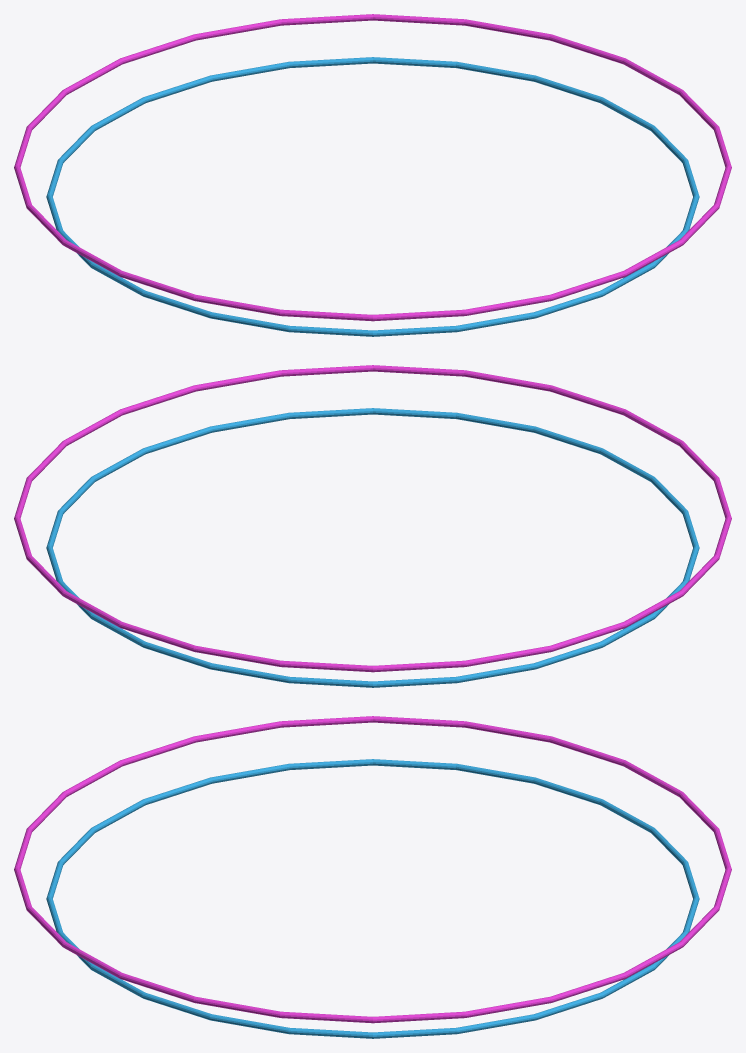
The model's file is hand-opt1_FBX.fbx.
3 renders of one model, top to bottom at view 1: azimuth 30°, elevation 25°; view 2: azimuth 150°, elevation 25°; view 3: azimuth 270°, elevation 25°, orthographic.
Visible parts, largest first — view 1: Outer Ring, Main Ring; view 2: Outer Ring, Main Ring; view 3: Outer Ring, Main Ring.
Part boxes in pixels (x1,y1,x2,y2): Outer Ring: [14, 14, 731, 321]; Main Ring: [46, 57, 699, 336]; Outer Ring: [14, 365, 731, 672]; Main Ring: [46, 408, 699, 687]; Outer Ring: [14, 716, 731, 1023]; Main Ring: [46, 759, 699, 1038].
Bounding box in the file's own units: 222 × 12 × 222.
